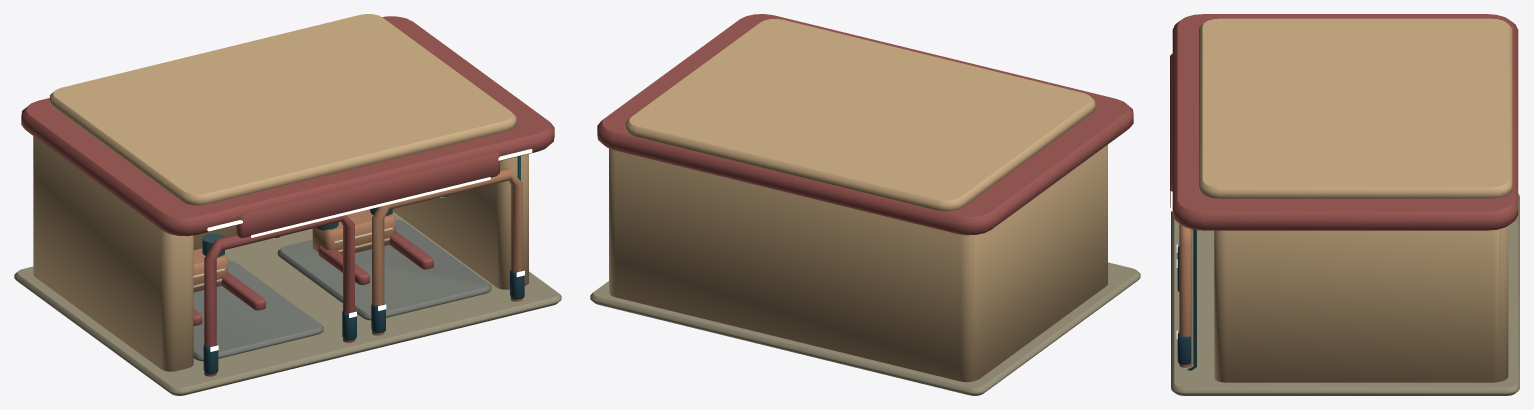
Rendered from route66_workshop.glb.
The picture shows the model from 3 angles, left to right: view 1: azimuth 30°, elevation 25°; view 2: azimuth 150°, elevation 25°; view 3: azimuth 270°, elevation 25°; orthographic projection. The views are drawn at different scales.
Visible parts, largest first — view 1: Route66Workshop; view 2: Route66Workshop; view 3: Route66Workshop.
Part boxes in pixels (bbox=[...]): Route66Workshop: bbox=[14, 14, 561, 395]; Route66Workshop: bbox=[590, 14, 1140, 395]; Route66Workshop: bbox=[1169, 14, 1519, 395].
Size of the model in its own units: 8.38 by 3.74 by 6.15.
